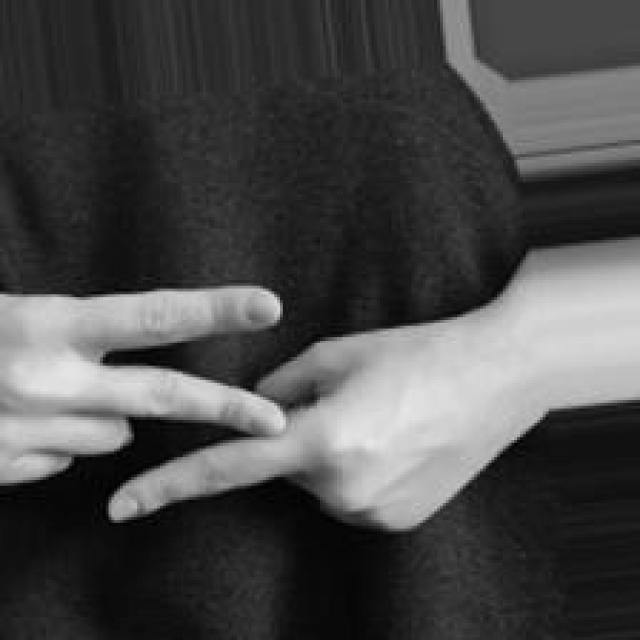Z: (0, 282, 538, 529)
